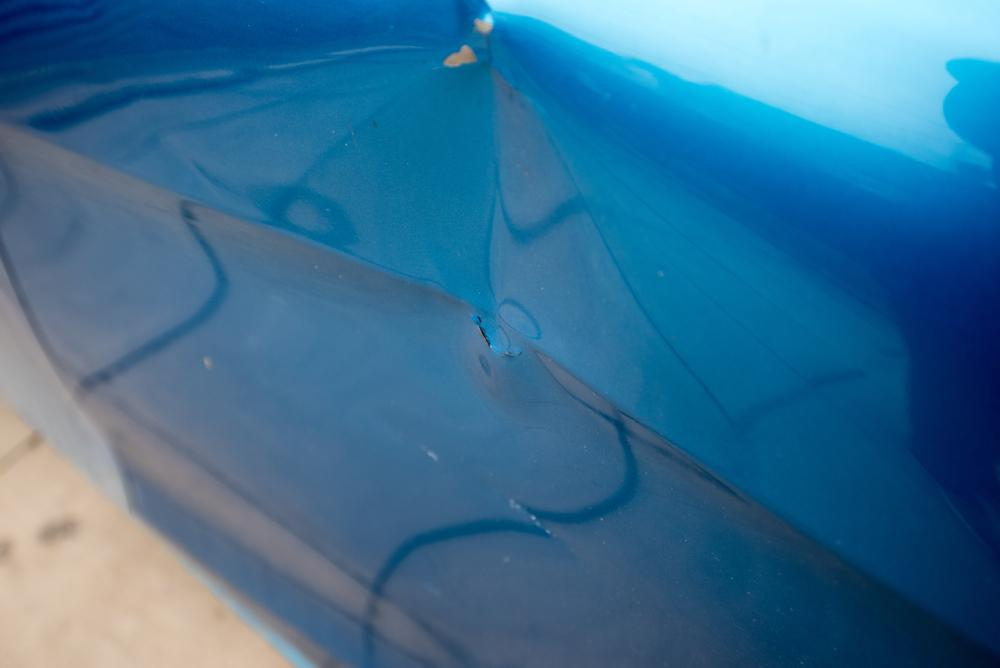dent: (342, 18, 598, 463)
